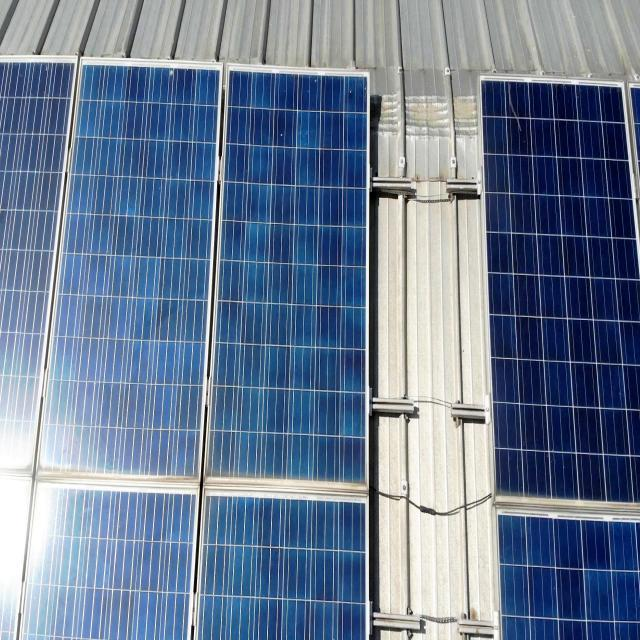faulty: (201, 70, 371, 492), (480, 76, 640, 514)
no faulty: (32, 56, 226, 491)
